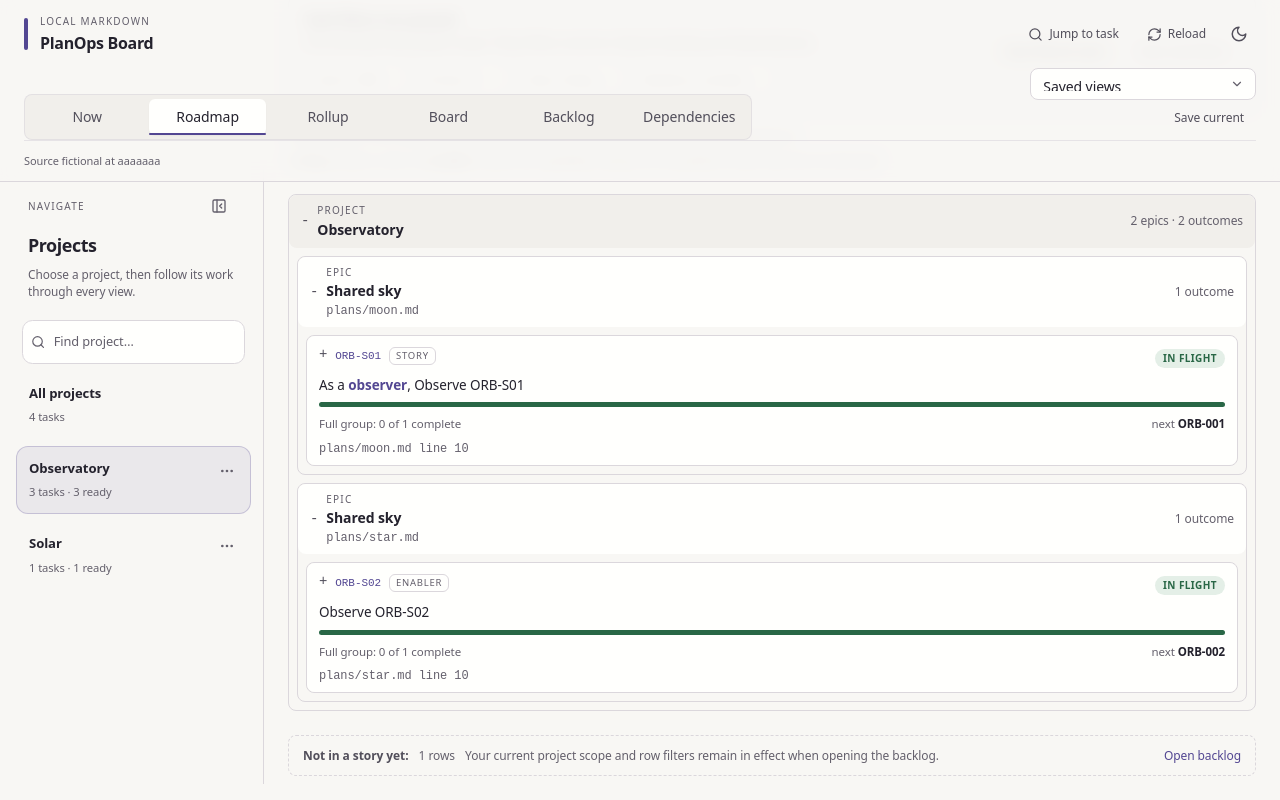
Test case: Roadmap in the real App › preserves project, text, and row filters when opening the backlog
The image size is (1280, 800).
(page scrolled)
Expected: the radio button labelled "Roadmap" is shown, [149, 99, 266, 135]
Expected: the element "Project Observatory" is shown, [288, 194, 1256, 711]
Step 1. Click the button "Open backlog" → [1202, 756], box [1164, 746, 1241, 765]
(page scrolled)
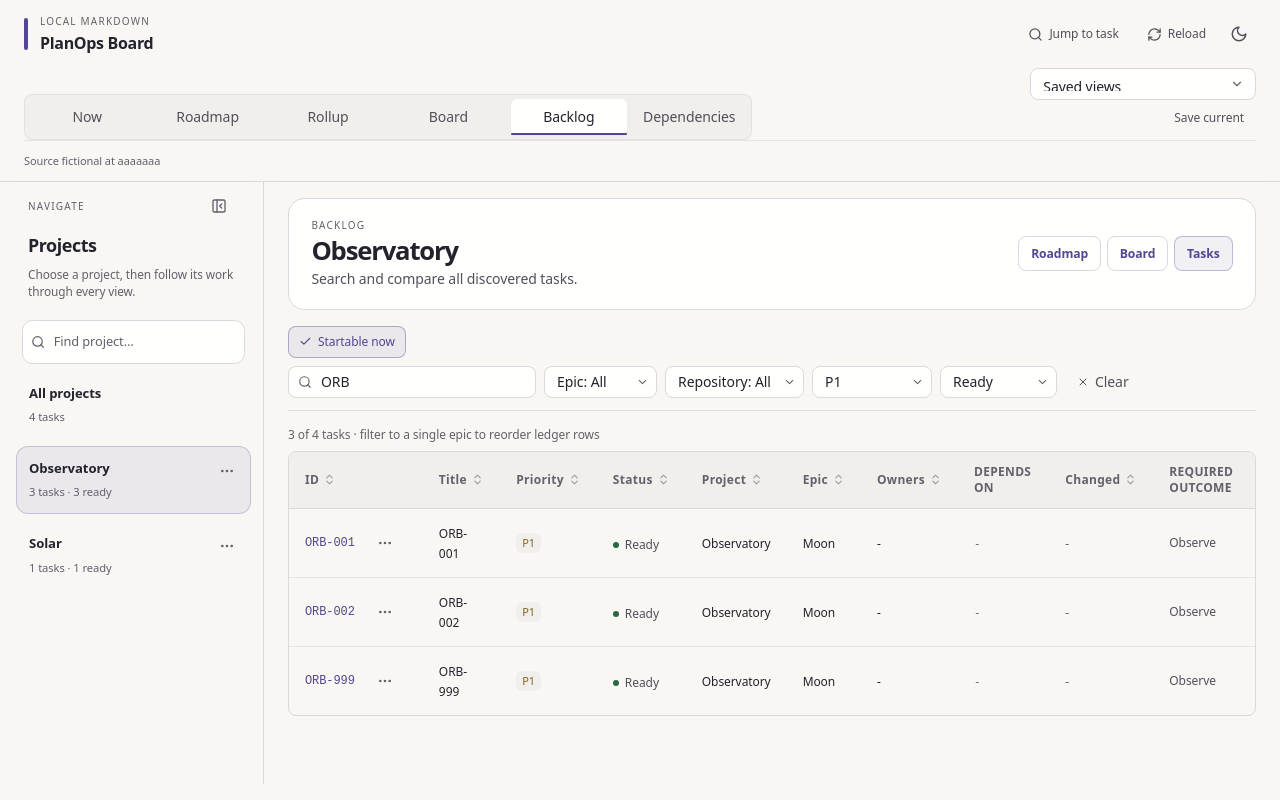
Expected: the radio button labelled "Backlog" is checked, [511, 99, 627, 135]
Expected: the search field with placeholder "Search ID, outcome, owner…" holds "ORB", [288, 366, 536, 398]
Expected: the button "ORB-001" is shown, [305, 534, 355, 550]
